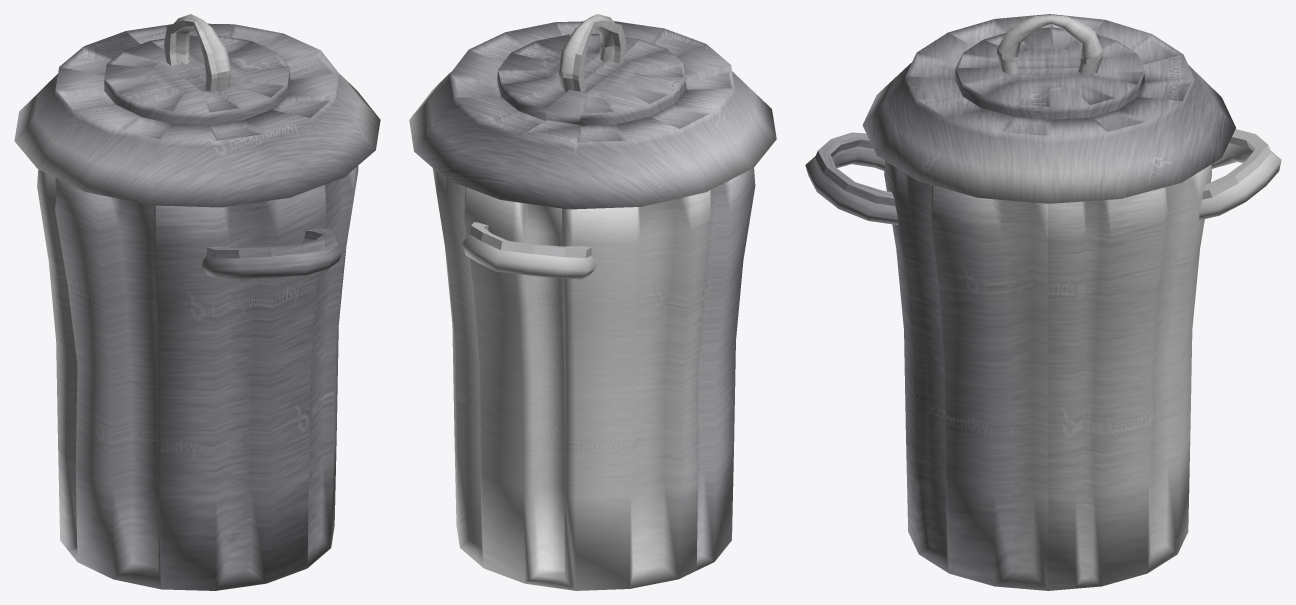
The model's file is trashcan_02.fbx.
The picture shows the model from 3 angles, left to right: view 1: azimuth 30°, elevation 25°; view 2: azimuth 150°, elevation 25°; view 3: azimuth 270°, elevation 25°; orthographic projection.
Parts seen in each view (by area): view 1: trashcan_02; view 2: trashcan_02; view 3: trashcan_02.
Boxes of the visible parts, box(x1,y1,x2,y2) form: trashcan_02: box(14, 14, 380, 590); trashcan_02: box(409, 14, 776, 590); trashcan_02: box(805, 14, 1281, 590).
Bounding box in the file's own units: 118 × 181 × 151.
Materials: 1 (1 with a texture image).
